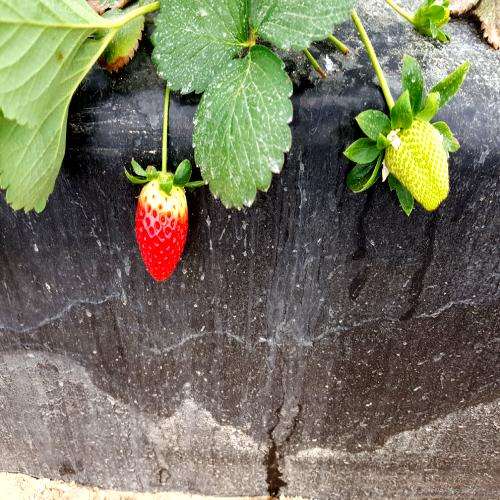ripe: (133, 171, 198, 295)
